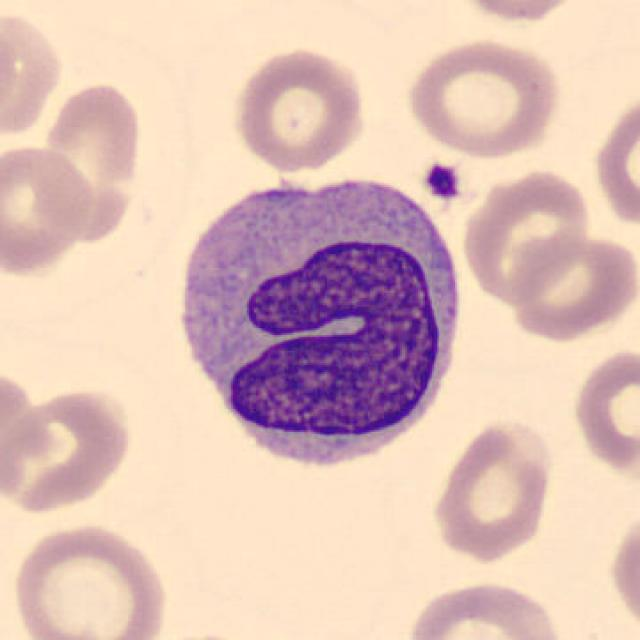Monocyte: (160, 159, 471, 488)
Platelets: (420, 158, 464, 202)
RBC: (402, 36, 565, 160), (7, 520, 173, 640), (426, 414, 556, 564), (458, 166, 594, 307), (229, 44, 370, 175), (2, 382, 135, 518), (39, 78, 144, 245), (505, 227, 638, 344), (0, 139, 96, 279), (402, 576, 569, 640), (567, 342, 638, 480), (0, 7, 68, 143), (590, 84, 638, 234), (0, 365, 43, 509), (606, 501, 640, 638), (448, 0, 588, 25), (0, 9, 21, 134)
